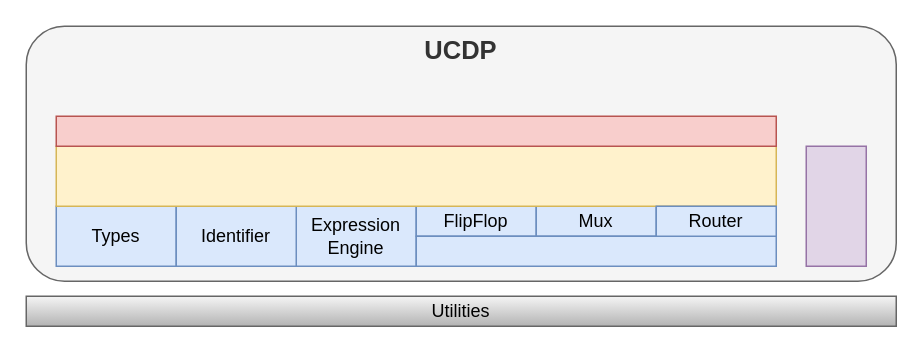
This 923x353 diagram has some shape labels left out. Here are the shapes that lost their labels. From the top down, the centre of each, then its label:
(415,130): Loader
(415,175): Modules
(835,205): Doc
(595,250): Assigns
